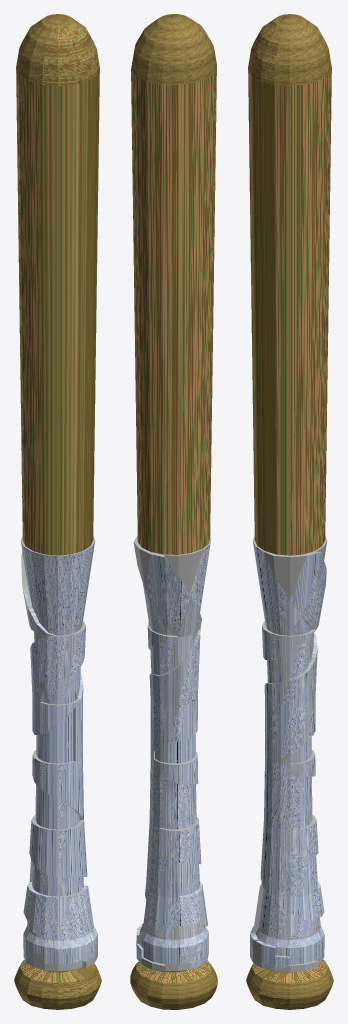
Rendered from Taco de baseball.glb.
3 views of the same model, side by side, from view 1: azimuth 90°, elevation 25°; view 2: azimuth 210°, elevation 25°; view 3: azimuth 270°, elevation 25° (orthographic).
Parts seen in each view (by area): view 1: Sphere.002, Sphere; view 2: Sphere.002, Sphere; view 3: Sphere.002, Sphere.
Part boxes in pixels (box(x1,y1,x2,y2)): Sphere.002: box(14, 14, 101, 1009); Sphere: box(20, 536, 97, 971); Sphere.002: box(130, 14, 217, 1009); Sphere: box(133, 536, 211, 972); Sphere.002: box(246, 14, 333, 1009); Sphere: box(250, 536, 327, 972).
Size of the model in its own units: 0.143 by 1.75 by 0.1429.
3 materials, 3 textured.
